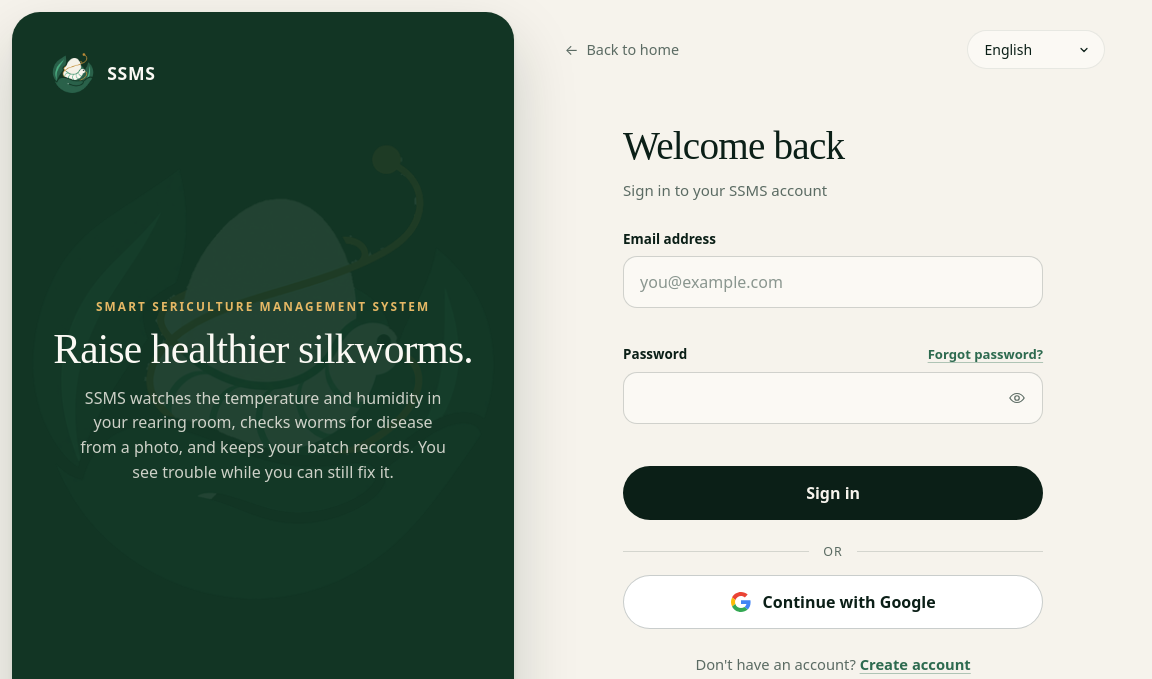
Login page › an account whose email is not verified › says so, and keeps the button, when the link could not be sent
Type "a@b.rw" into the field labelled "Email address" at (833, 282), box [623,256,1043,308]
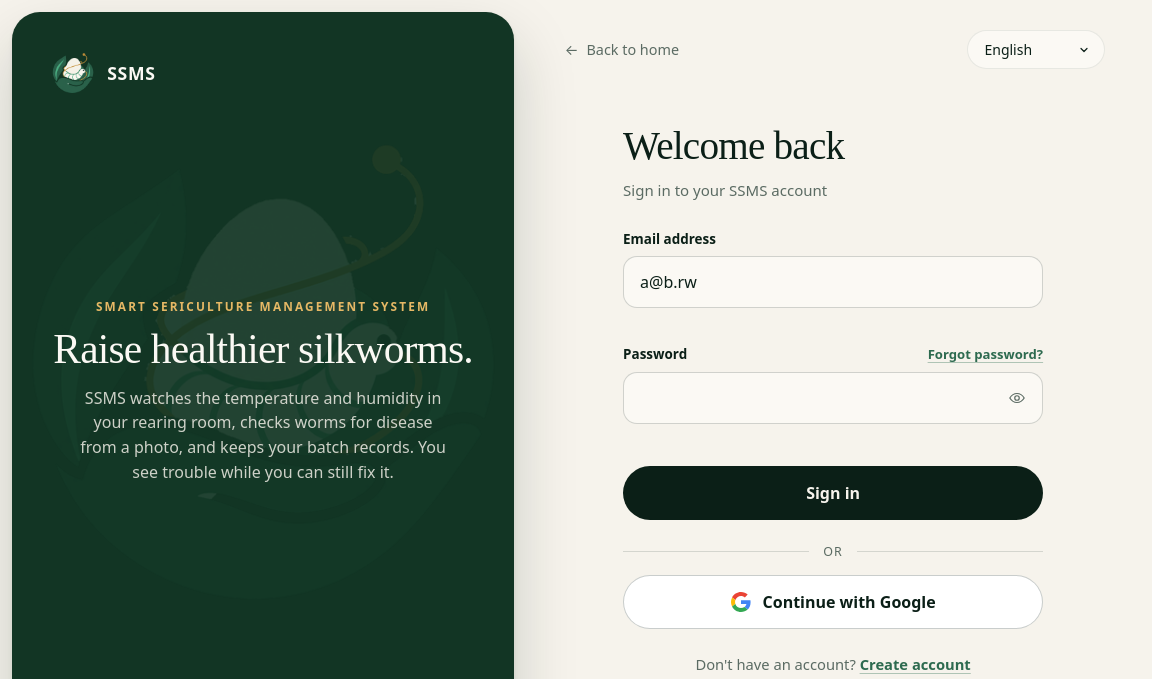
Type "Secret123" into the password field labelled "Password" at (833, 398), box [623,372,1043,424]
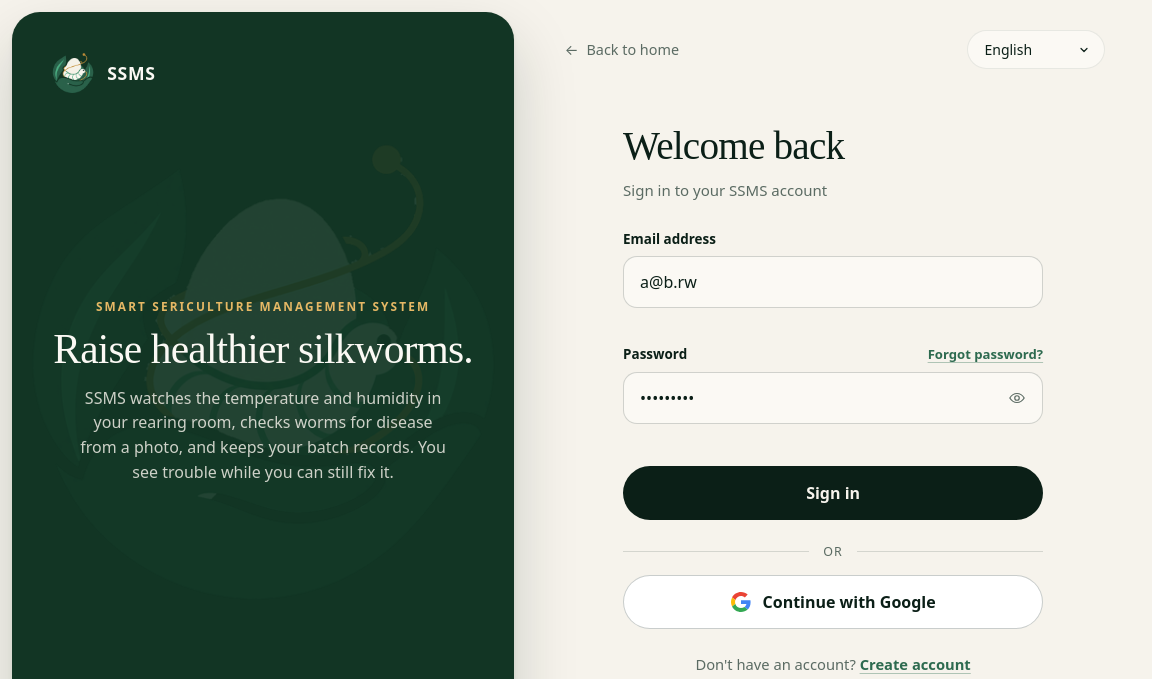
Click the button "Sign in" at (833, 493), box [623,466,1043,520]
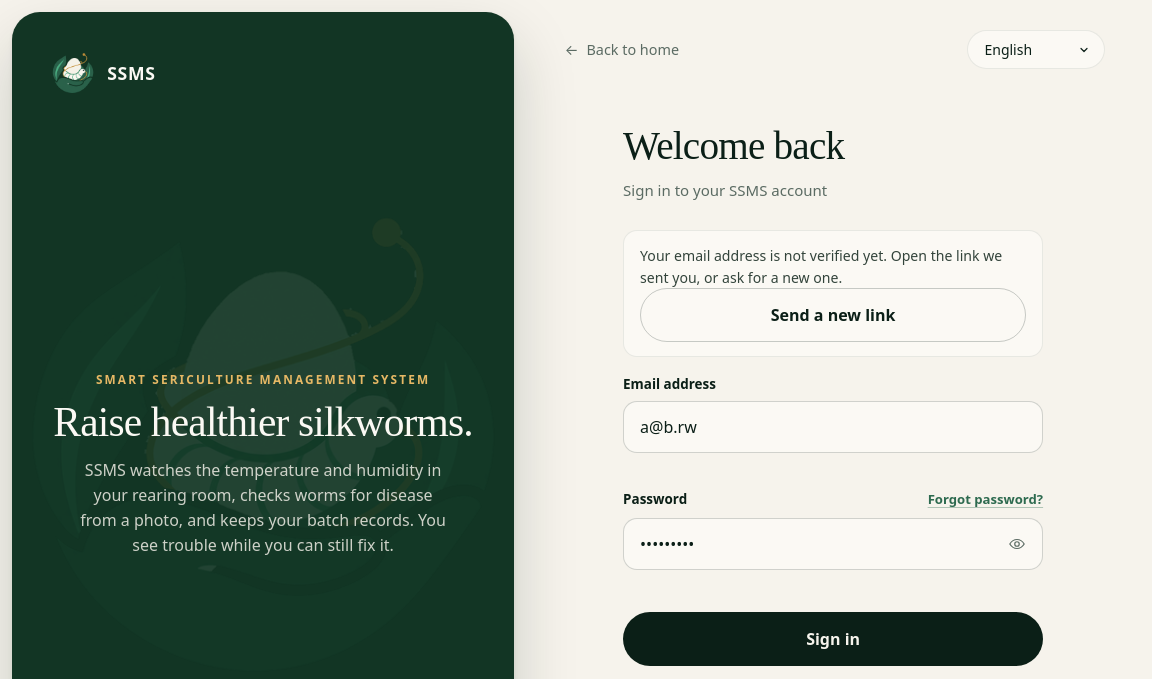
Click the button "Send a new link" at (833, 315), box [640,288,1026,342]
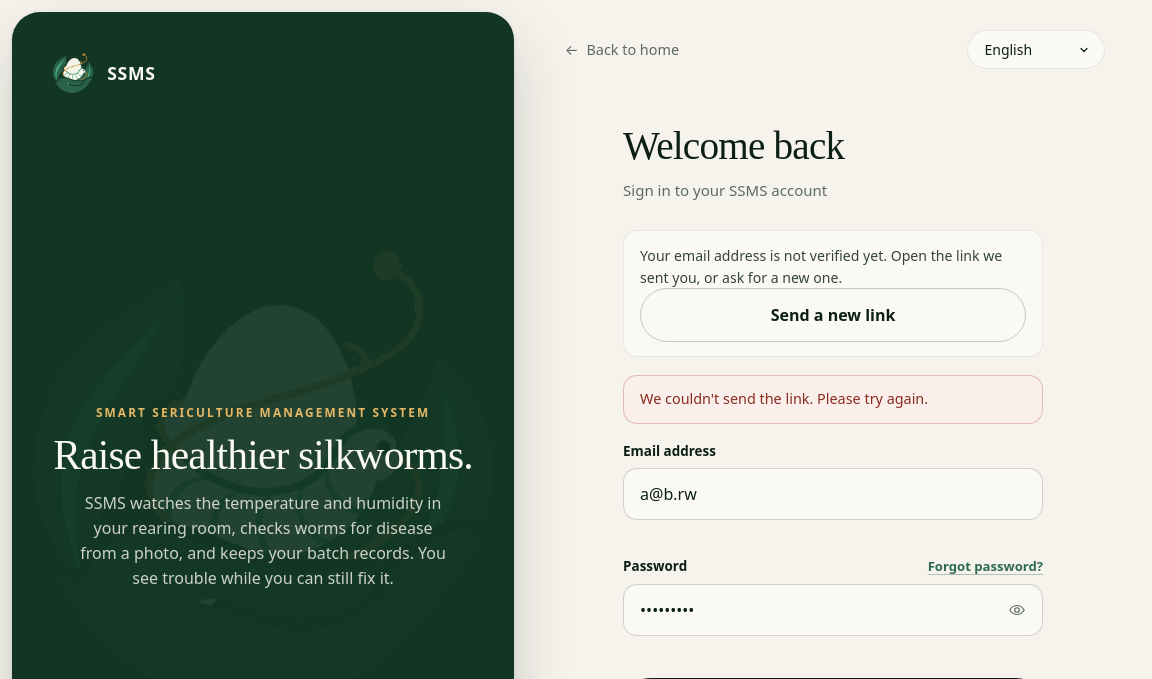
Expected: the button "Send a new link" is enabled, [640,288,1026,342]
Expected: the message "We couldn't send the link. Please try again." is shown, [623,375,1043,424]
